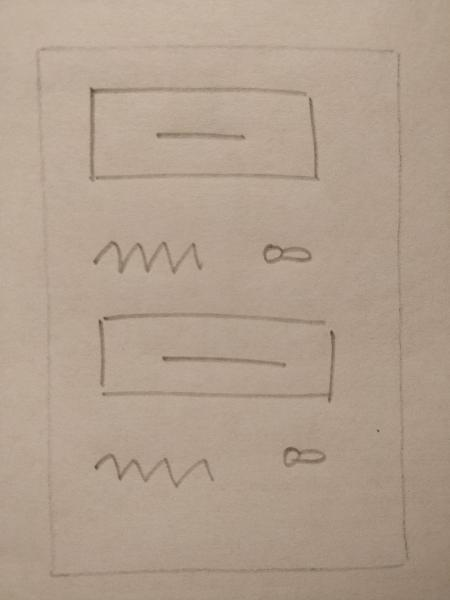button: (80, 78, 327, 192), (87, 306, 346, 410)
switch: (254, 236, 323, 278), (280, 436, 333, 476)
text: (83, 441, 222, 504), (84, 232, 208, 287)
